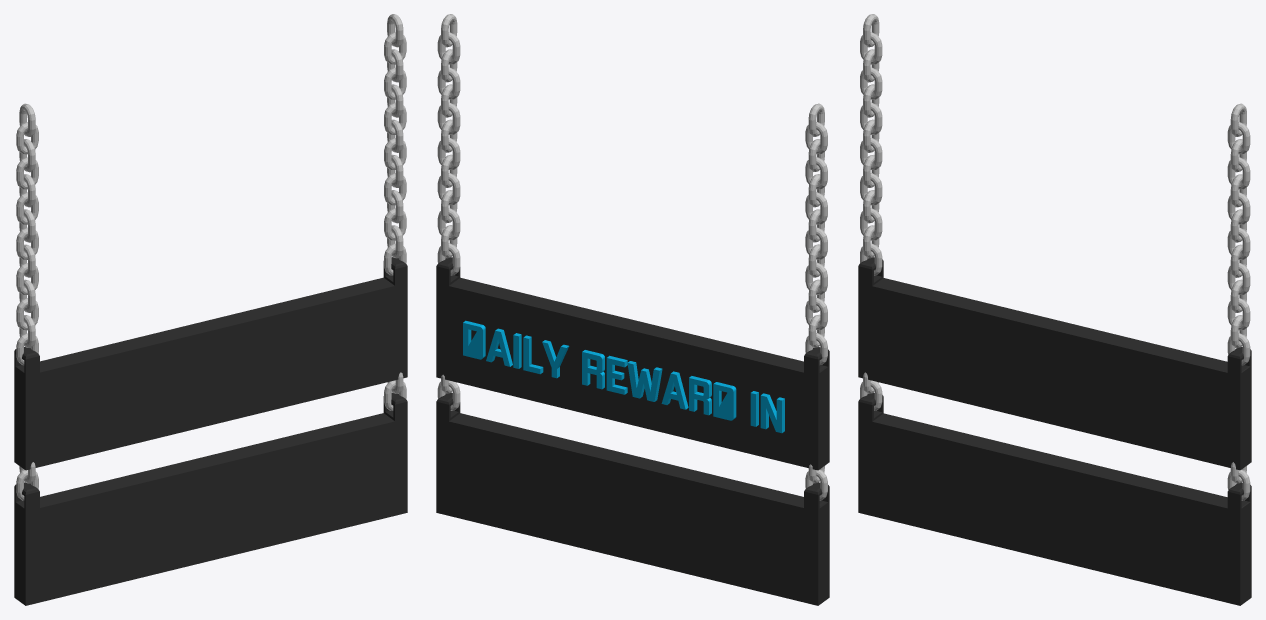
The model's file is dailiyy.fbx.
3 renders of one model, left to right at view 1: azimuth 30°, elevation 25°; view 2: azimuth 150°, elevation 25°; view 3: azimuth 330°, elevation 25°, orthographic.
Visible parts, largest first — view 1: Cube.003, Cube, Torus, Torus.001; view 2: Cube.003, Cube, Text, Torus, Torus.001; view 3: Cube.003, Cube, Torus, Torus.001.
Boxes of the visible parts, x1=… form: Cube.003: x1=14, y1=392, x2=407, y2=605; Cube: x1=14, y1=257, x2=407, y2=470; Torus: x1=384, y1=14, x2=406, y2=275; Torus.001: x1=16, y1=103, x2=38, y2=365; Cube.003: x1=436, y1=392, x2=829, y2=605; Cube: x1=436, y1=257, x2=829, y2=470; Text: x1=463, y1=320, x2=784, y2=433; Torus: x1=437, y1=14, x2=460, y2=275; Torus.001: x1=805, y1=103, x2=827, y2=364; Cube.003: x1=858, y1=392, x2=1251, y2=605; Cube: x1=858, y1=257, x2=1251, y2=470; Torus: x1=1227, y1=103, x2=1250, y2=365; Torus.001: x1=860, y1=14, x2=882, y2=275.
Bounding box in the file's own units: 624 × 759 × 41.55.
